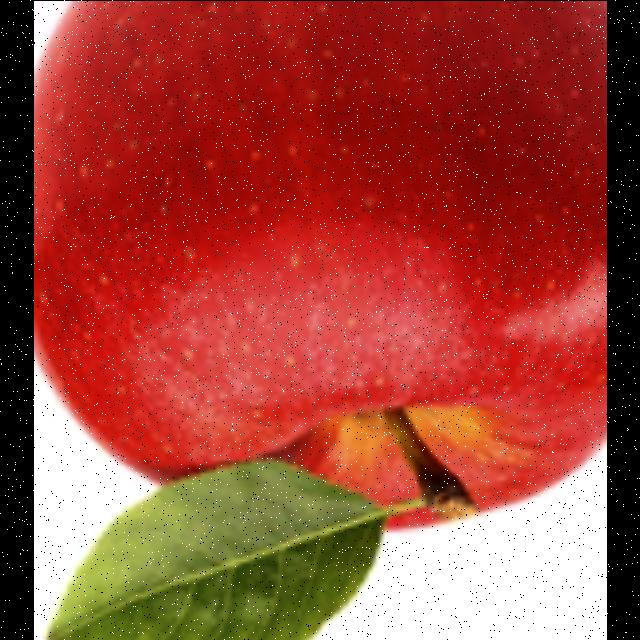Apel Segar: (34, 0, 606, 538)
